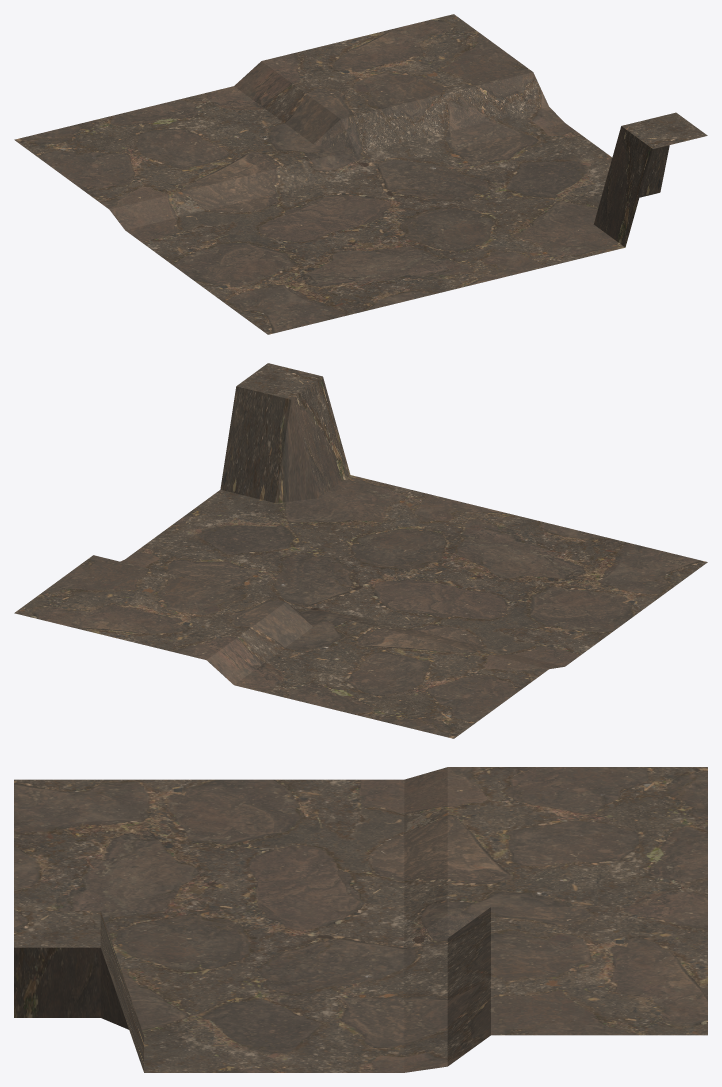
File: Ground.obj
3 views of the same model, one above another, from view 1: azimuth 30°, elevation 25°; view 2: azimuth 150°, elevation 25°; view 3: azimuth 270°, elevation 25° (orthographic). The views are drawn at different scales.
Visible parts, largest first — view 1: 平面; view 2: 平面; view 3: 平面.
Part boxes in pixels (x1,y1,x2,y2): 平面: [14, 14, 707, 334]; 平面: [14, 363, 707, 738]; 平面: [14, 767, 707, 1072].
Size of the model in its own units: 100 by 20 by 100.
Materials: 1 (1 with a texture image).
